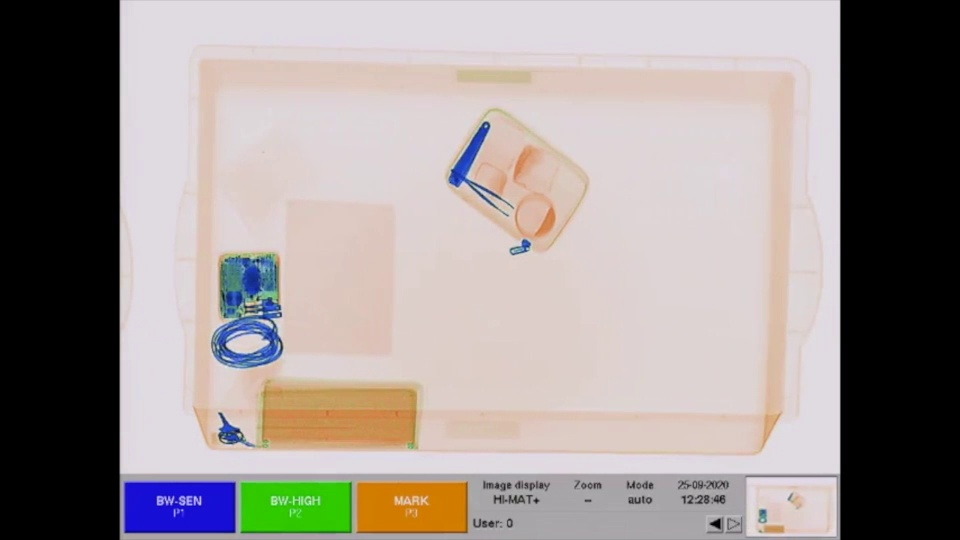tray_img: (163, 34, 830, 464)
